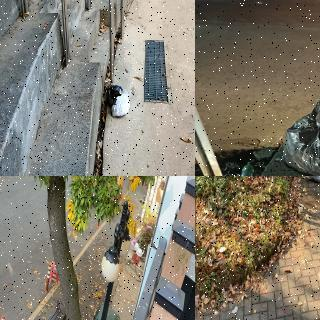Garbage: (281, 92, 320, 176), (113, 92, 130, 118), (106, 83, 125, 106), (301, 176, 320, 186)
